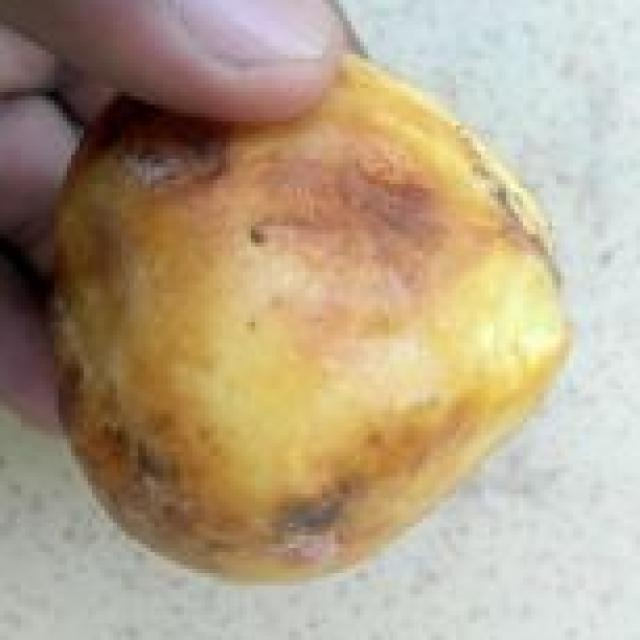Bad_Guava 0 day: (59, 56, 569, 578)
